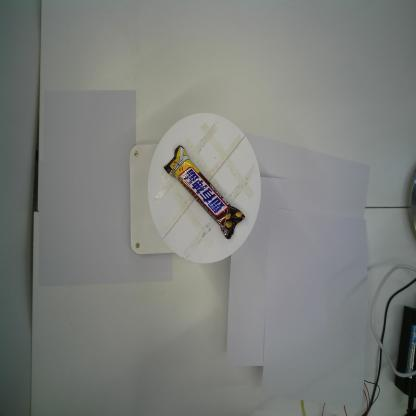Chocolate: (163, 145, 246, 240)
